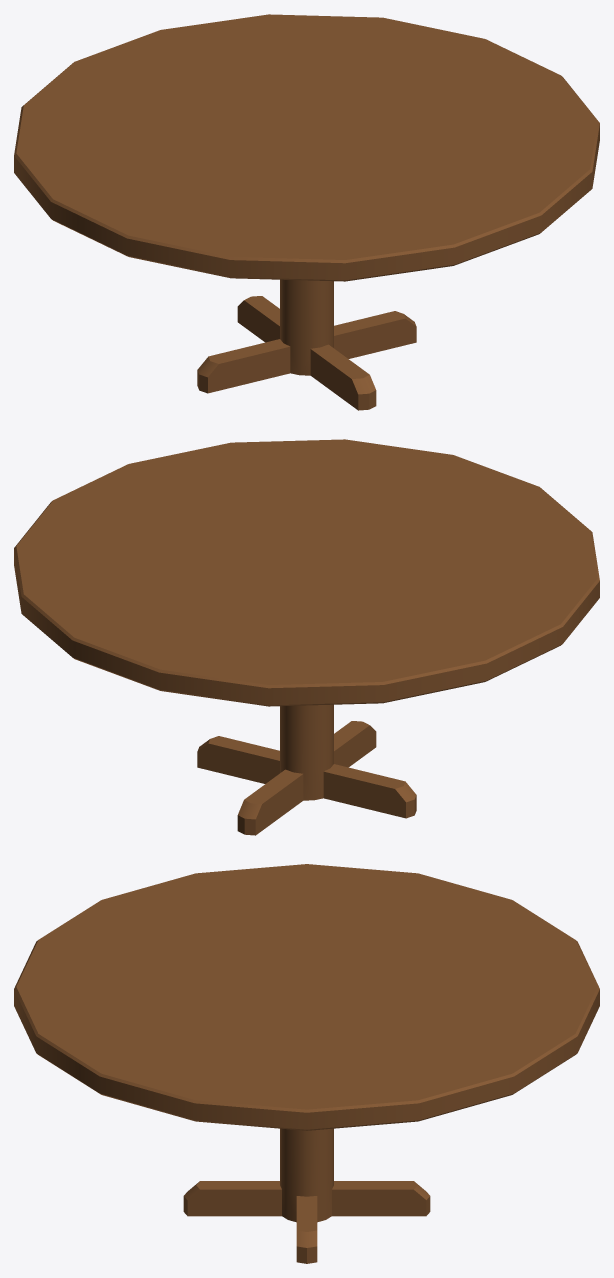
File: table.fbx
3 renders of one model, top to bottom at view 1: azimuth 30°, elevation 25°; view 2: azimuth 150°, elevation 25°; view 3: azimuth 270°, elevation 25°, orthographic.
Visible parts, largest first — view 1: table; view 2: table; view 3: table.
Boxes of the visible parts, <box> form: table: <box>14,14,599,410</box>; table: <box>14,439,599,835</box>; table: <box>14,864,599,1263</box>.
Size of the model in its own units: 250 by 106 by 250.
Materials: 1 (1 with a texture image).
